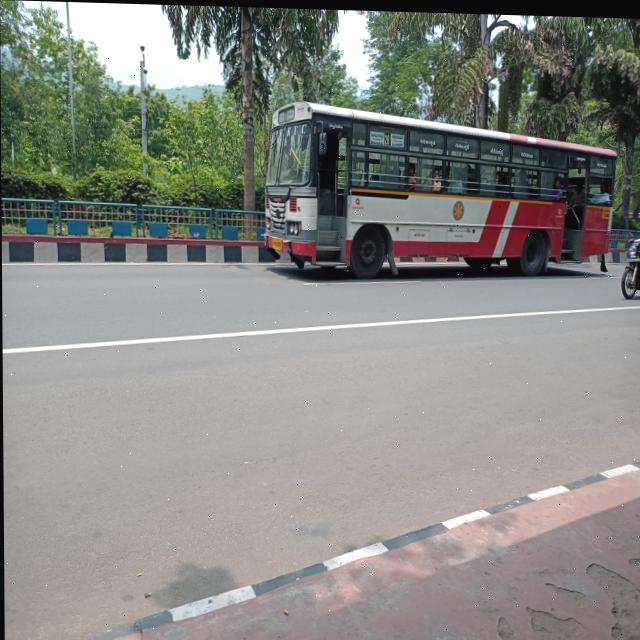bike: (618, 232, 640, 304)
bus: (258, 95, 619, 291)
